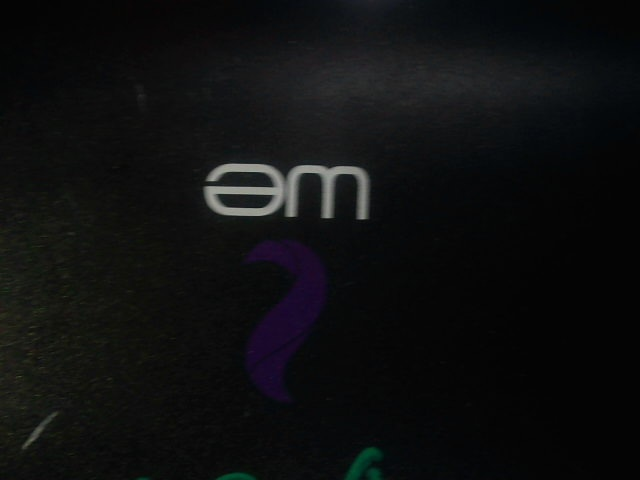AT_We: (188, 156, 393, 408)
